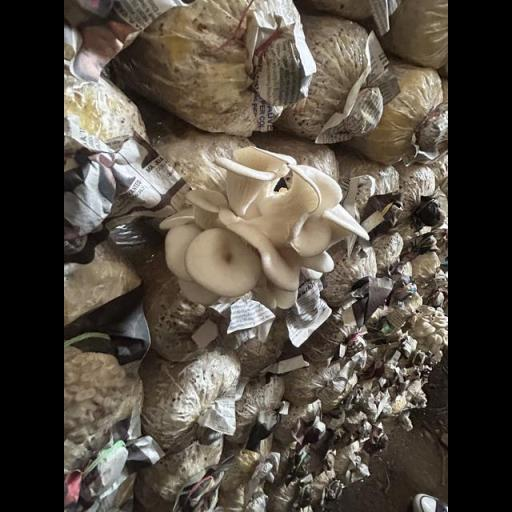White Oyster Mushroom: (156, 144, 368, 311), (161, 192, 220, 231)
